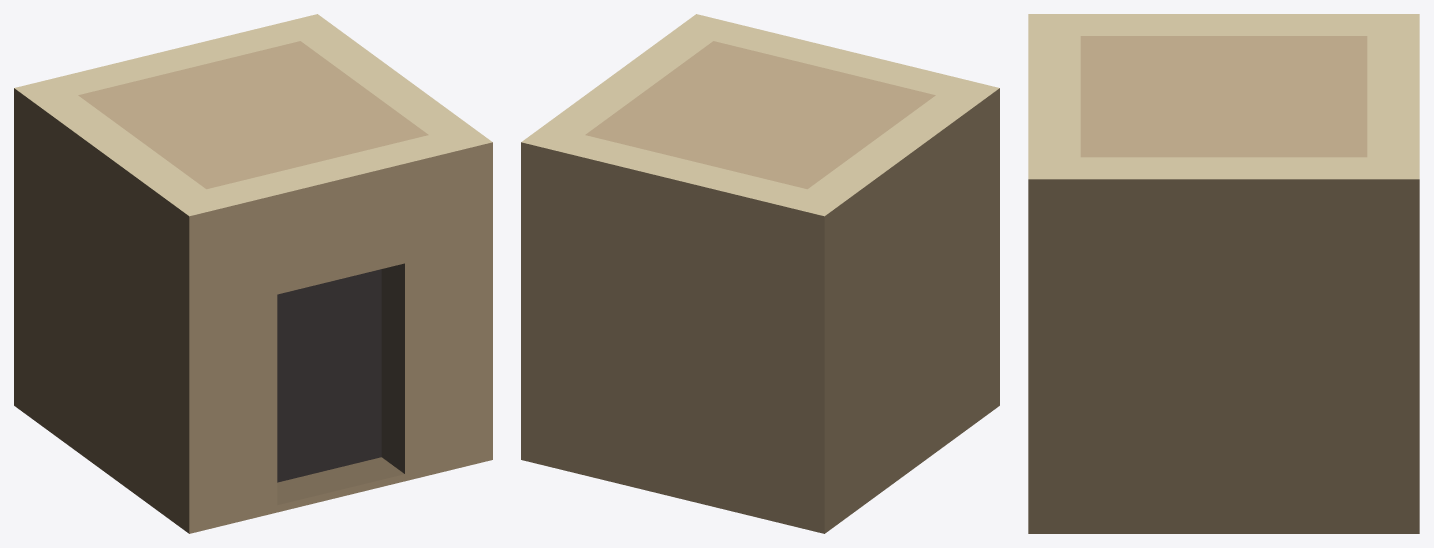
Rendered from TB_D_Bd_TopDoor.FBX.
3 renders of one model, left to right at view 1: azimuth 30°, elevation 25°; view 2: azimuth 150°, elevation 25°; view 3: azimuth 270°, elevation 25°, orthographic. The views are drawn at different scales.
Visible parts, largest first — view 1: TB_D_Bd_TopDoor; view 2: TB_D_Bd_TopDoor; view 3: TB_D_Bd_TopDoor.
Boxes of the visible parts, x1,y1,x2,y2 form: TB_D_Bd_TopDoor: (14, 14, 492, 533); TB_D_Bd_TopDoor: (521, 14, 999, 533); TB_D_Bd_TopDoor: (1028, 14, 1419, 533).
Size of the model in its own units: 1.5 by 1.5 by 1.5.
